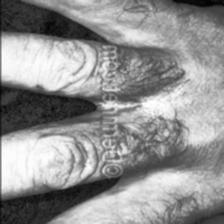Toxin: (116, 94, 160, 111), (71, 86, 94, 100), (59, 118, 93, 123)
